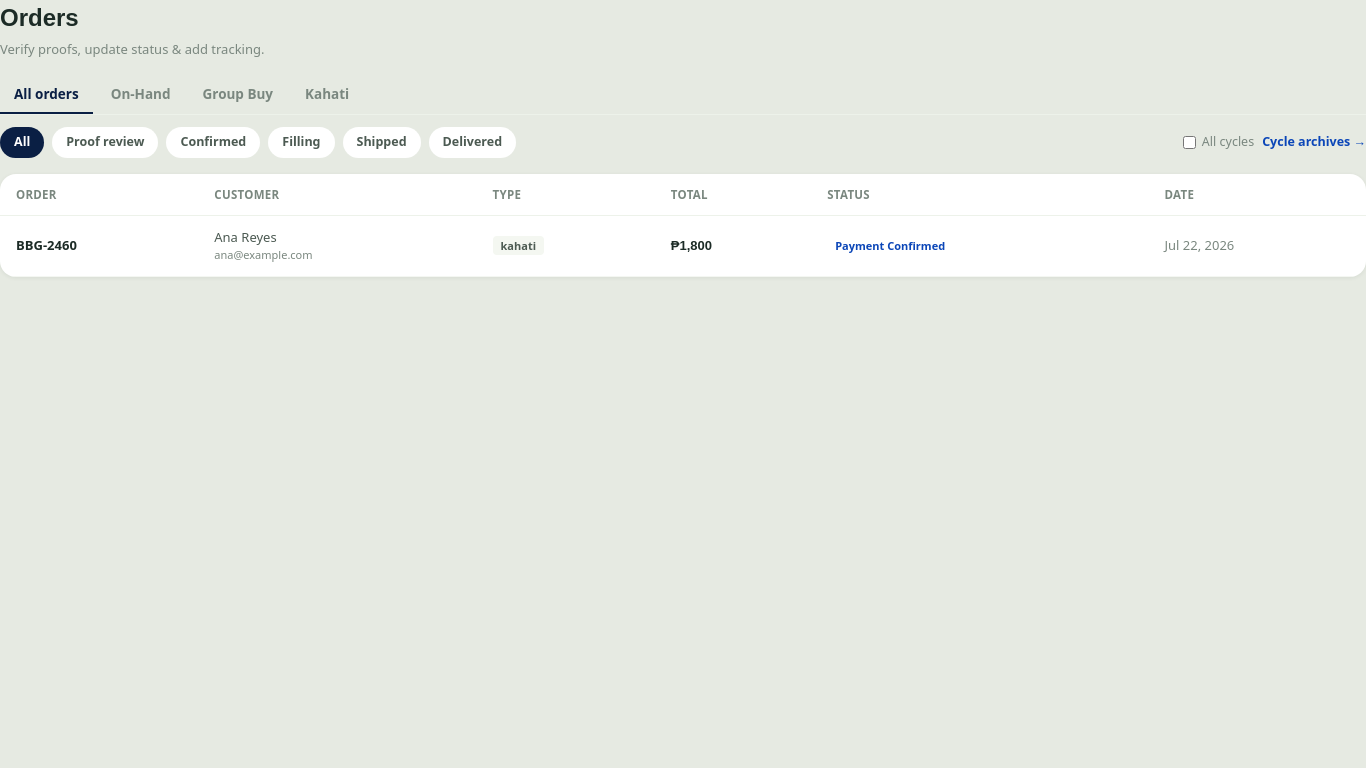
it: Admin order sheet — an order with no proof › still flags a missing proof on an order that did owe money
Click the text "BBG-2460" at (46, 245), box [0,215,198,276]
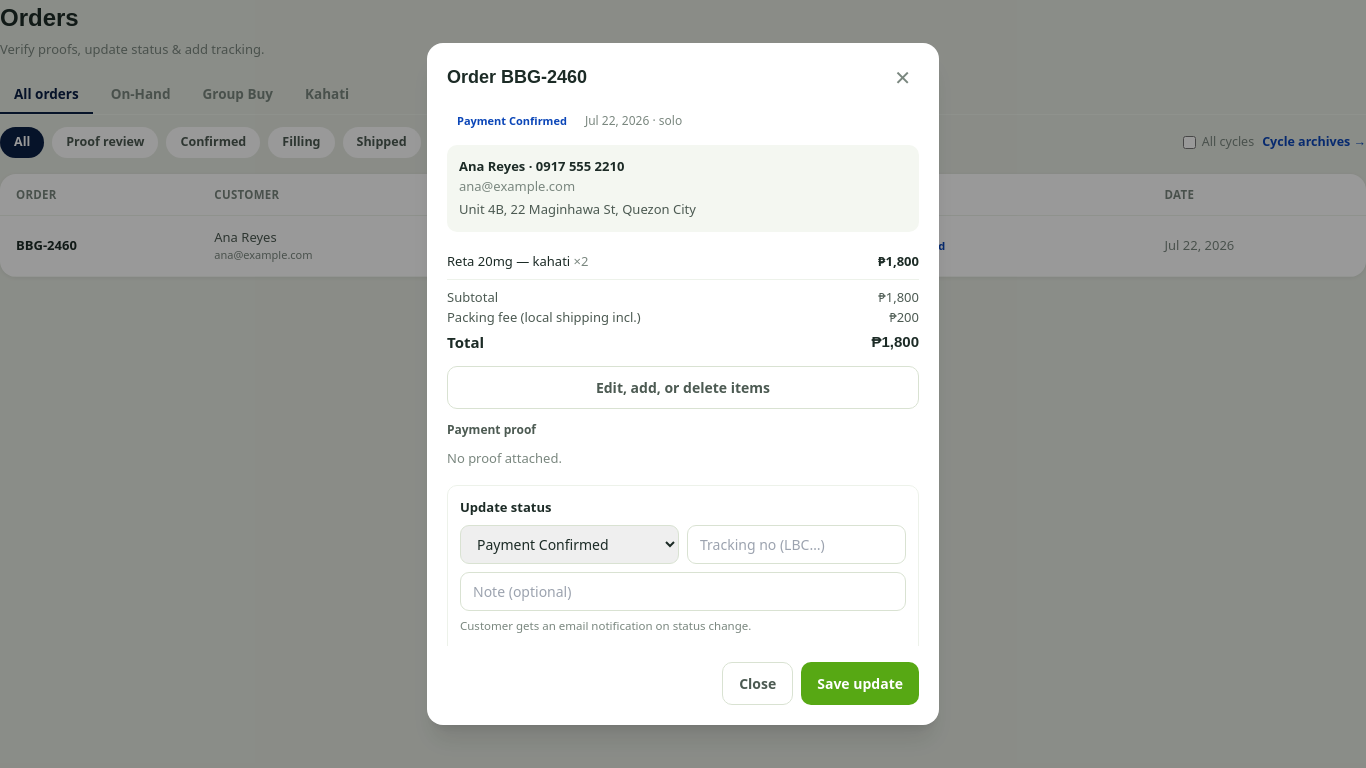
Expected: the text "Update status" is shown, [460,498,552,516]
Expected: the text "No proof attached." is shown, [447,449,562,467]
